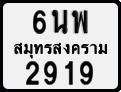letters: (50, 9, 69, 34), (71, 9, 89, 34), (42, 60, 59, 86), (25, 60, 41, 87), (78, 59, 94, 86), (31, 9, 47, 35), (62, 60, 74, 86)
province: (12, 41, 109, 59)
